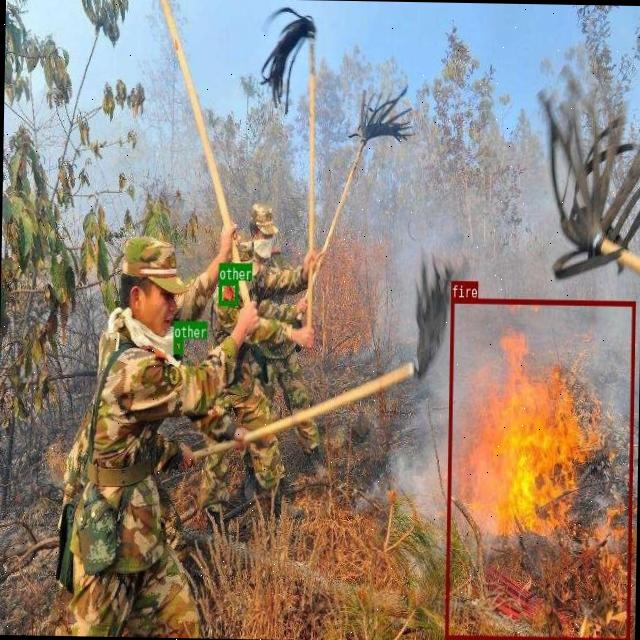fire: (444, 298, 634, 640)
